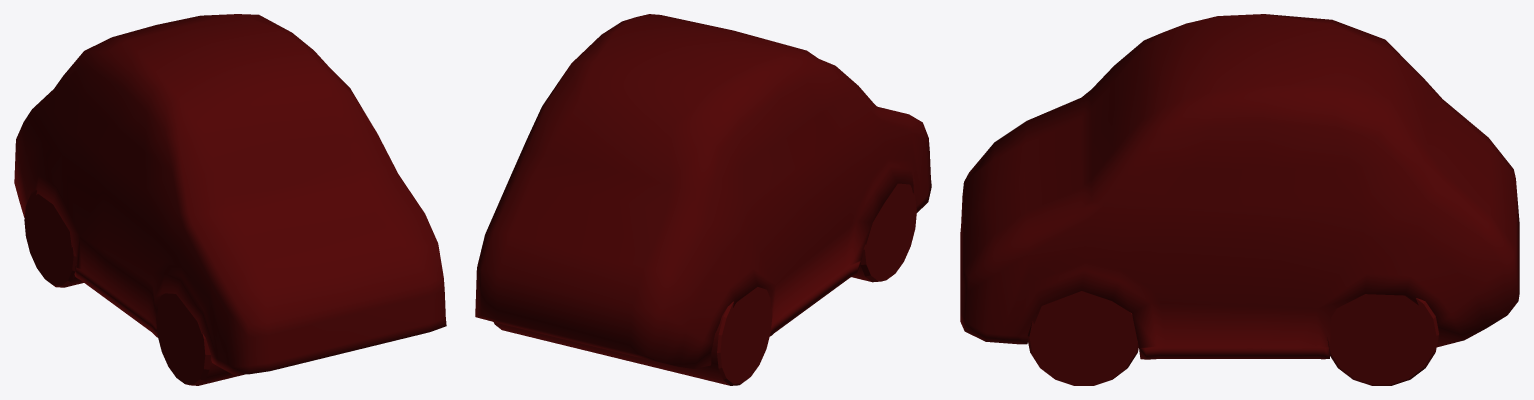
The model's file is Toy_Car.FBX.
3 renders of one model, left to right at view 1: azimuth 30°, elevation 25°; view 2: azimuth 150°, elevation 25°; view 3: azimuth 270°, elevation 25°, orthographic. The views are drawn at different scales.
Parts seen in each view (by area): view 1: Toy_car; view 2: Toy_car; view 3: Toy_car.
Boxes of the visible parts, x1,y1,x2,y2 form: Toy_car: [14, 14, 446, 385]; Toy_car: [475, 14, 931, 385]; Toy_car: [960, 14, 1519, 385].
Bounding box in the file's own units: 169 × 170 × 308.
